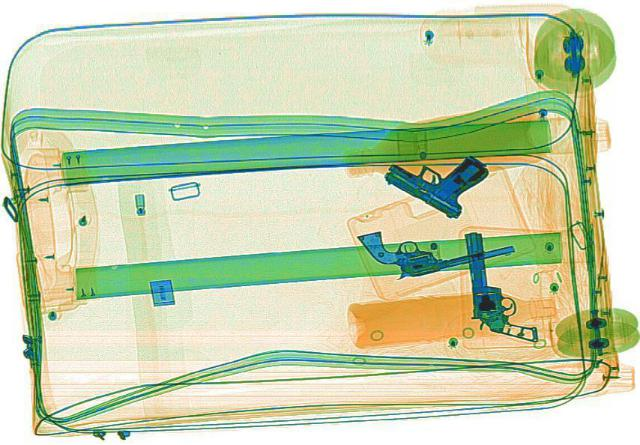Gun: (369, 130, 513, 220), (354, 206, 518, 281), (464, 227, 538, 343)
